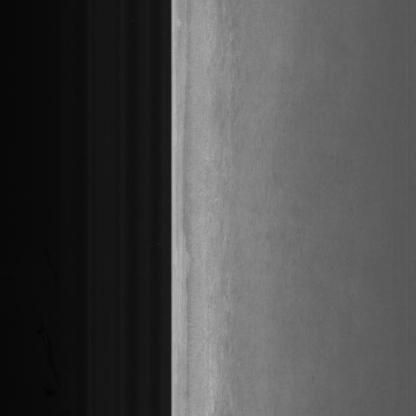silk_spot: (208, 49, 255, 357)
